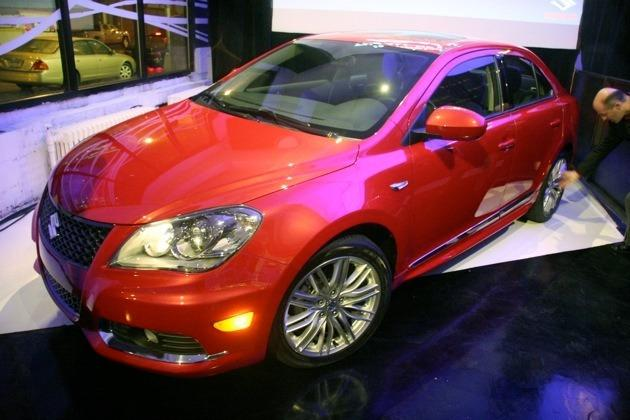suzuki: (43, 211, 68, 243)
